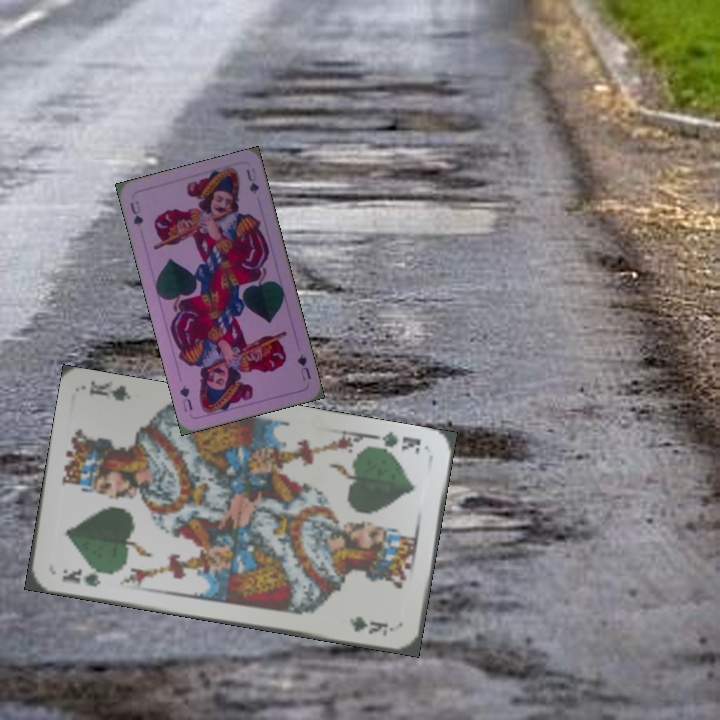GK: (368, 427, 423, 457), (58, 564, 112, 590)
GU: (293, 350, 313, 383), (126, 197, 146, 230)
